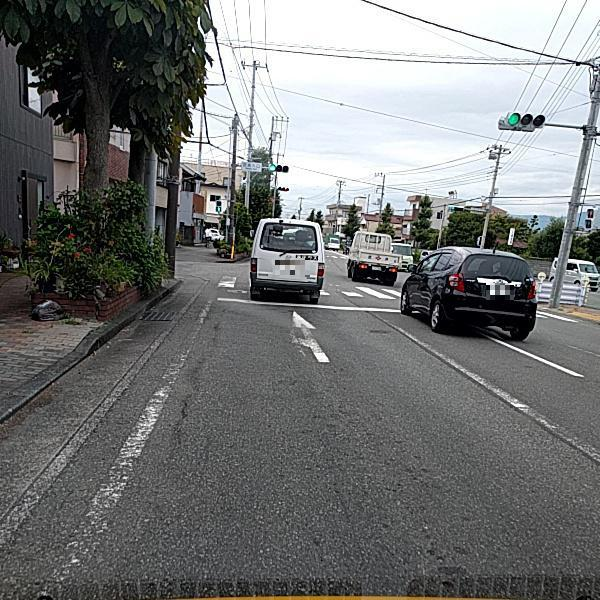D44: (50, 296, 210, 584), (374, 310, 598, 461), (283, 308, 331, 366)
